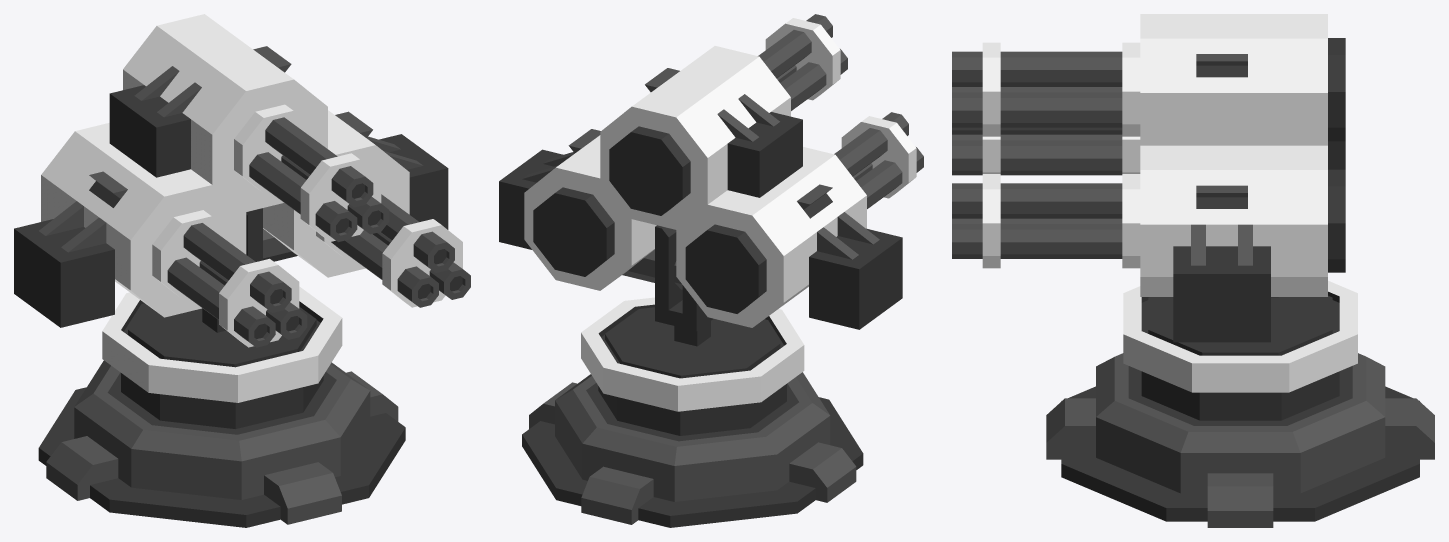
Rendered from Minigun_3.fbx.
3 views of the same model, side by side, from view 1: azimuth 30°, elevation 25°; view 2: azimuth 150°, elevation 25°; view 3: azimuth 270°, elevation 25° (orthographic). The views are drawn at different scales.
Parts seen in each view (by area): view 1: Body_Mesh, Base_Mesh, Upper_Mesh, Gun_3, Gun_1, Gun_2; view 2: Body_Mesh, Base_Mesh, Upper_Mesh, Gun_3, Gun_1; view 3: Body_Mesh, Base_Mesh, Upper_Mesh, Gun_3, Gun_2, Gun_1.
Part boxes in pixels (x1,y1,x2,y2): Body_Mesh: [14, 14, 448, 327]; Base_Mesh: [38, 360, 405, 527]; Upper_Mesh: [102, 208, 342, 428]; Gun_3: [234, 104, 389, 242]; Gun_1: [152, 210, 307, 347]; Gun_2: [316, 181, 470, 307]; Body_Mesh: [499, 46, 902, 329]; Base_Mesh: [522, 372, 863, 527]; Upper_Mesh: [581, 225, 804, 435]; Gun_3: [758, 14, 847, 110]; Gun_1: [834, 112, 923, 208]; Body_Mesh: [1140, 14, 1345, 342]; Base_Mesh: [1046, 353, 1434, 527]; Upper_Mesh: [1123, 280, 1357, 420]; Gun_3: [952, 42, 1140, 136]; Gun_2: [952, 174, 1140, 268]; Gun_1: [952, 127, 1140, 175].
Size of the model in its own units: 1.57 by 1.55 by 1.62.
